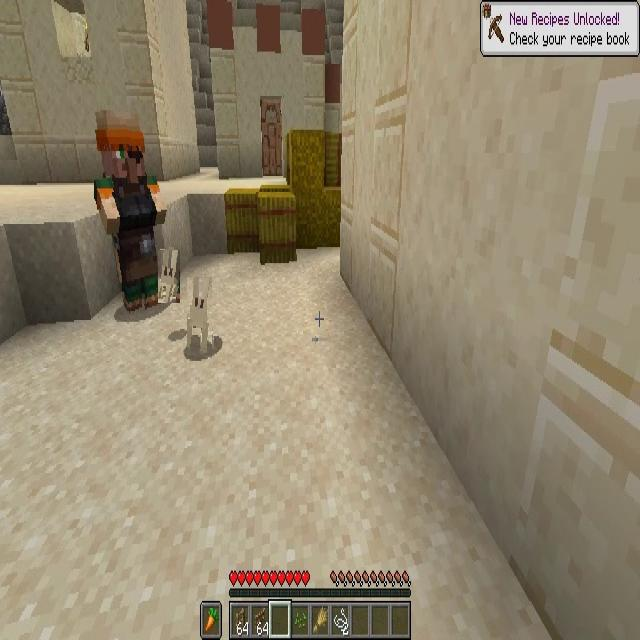people: (94, 111, 168, 311)
rabbit: (187, 278, 212, 356), (158, 250, 180, 303)
